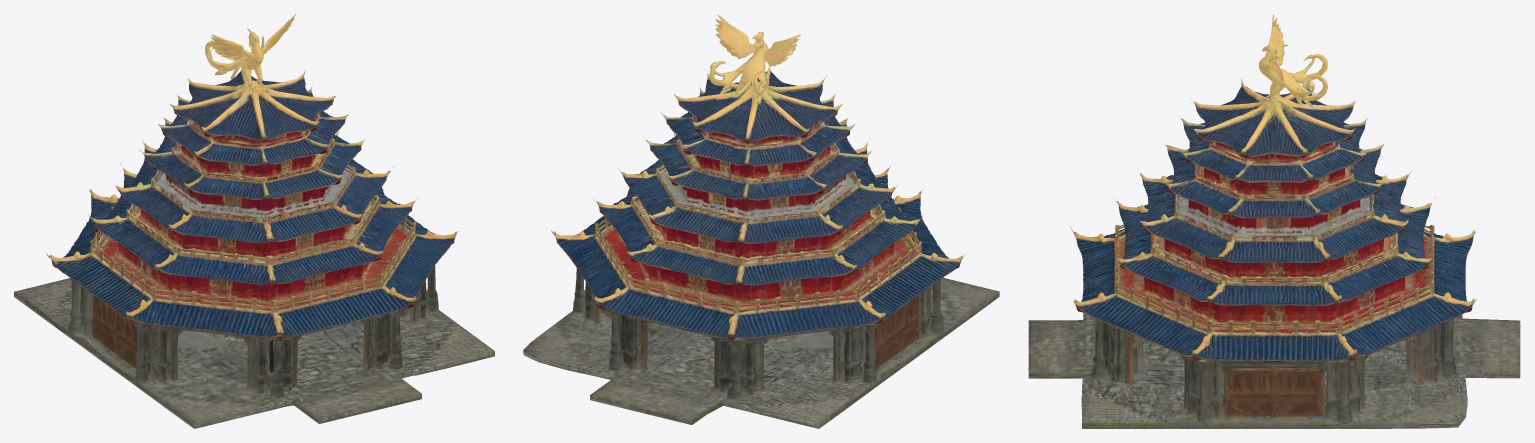
File: bq_pagoda.glb
3 renders of one model, left to right at view 1: azimuth 30°, elevation 25°; view 2: azimuth 150°, elevation 25°; view 3: azimuth 270°, elevation 25°, orthographic. The views are drawn at different scales.
Bounding box in the file's own units: 1.58 × 1.35 × 1.9.
1 material, 1 textured.
